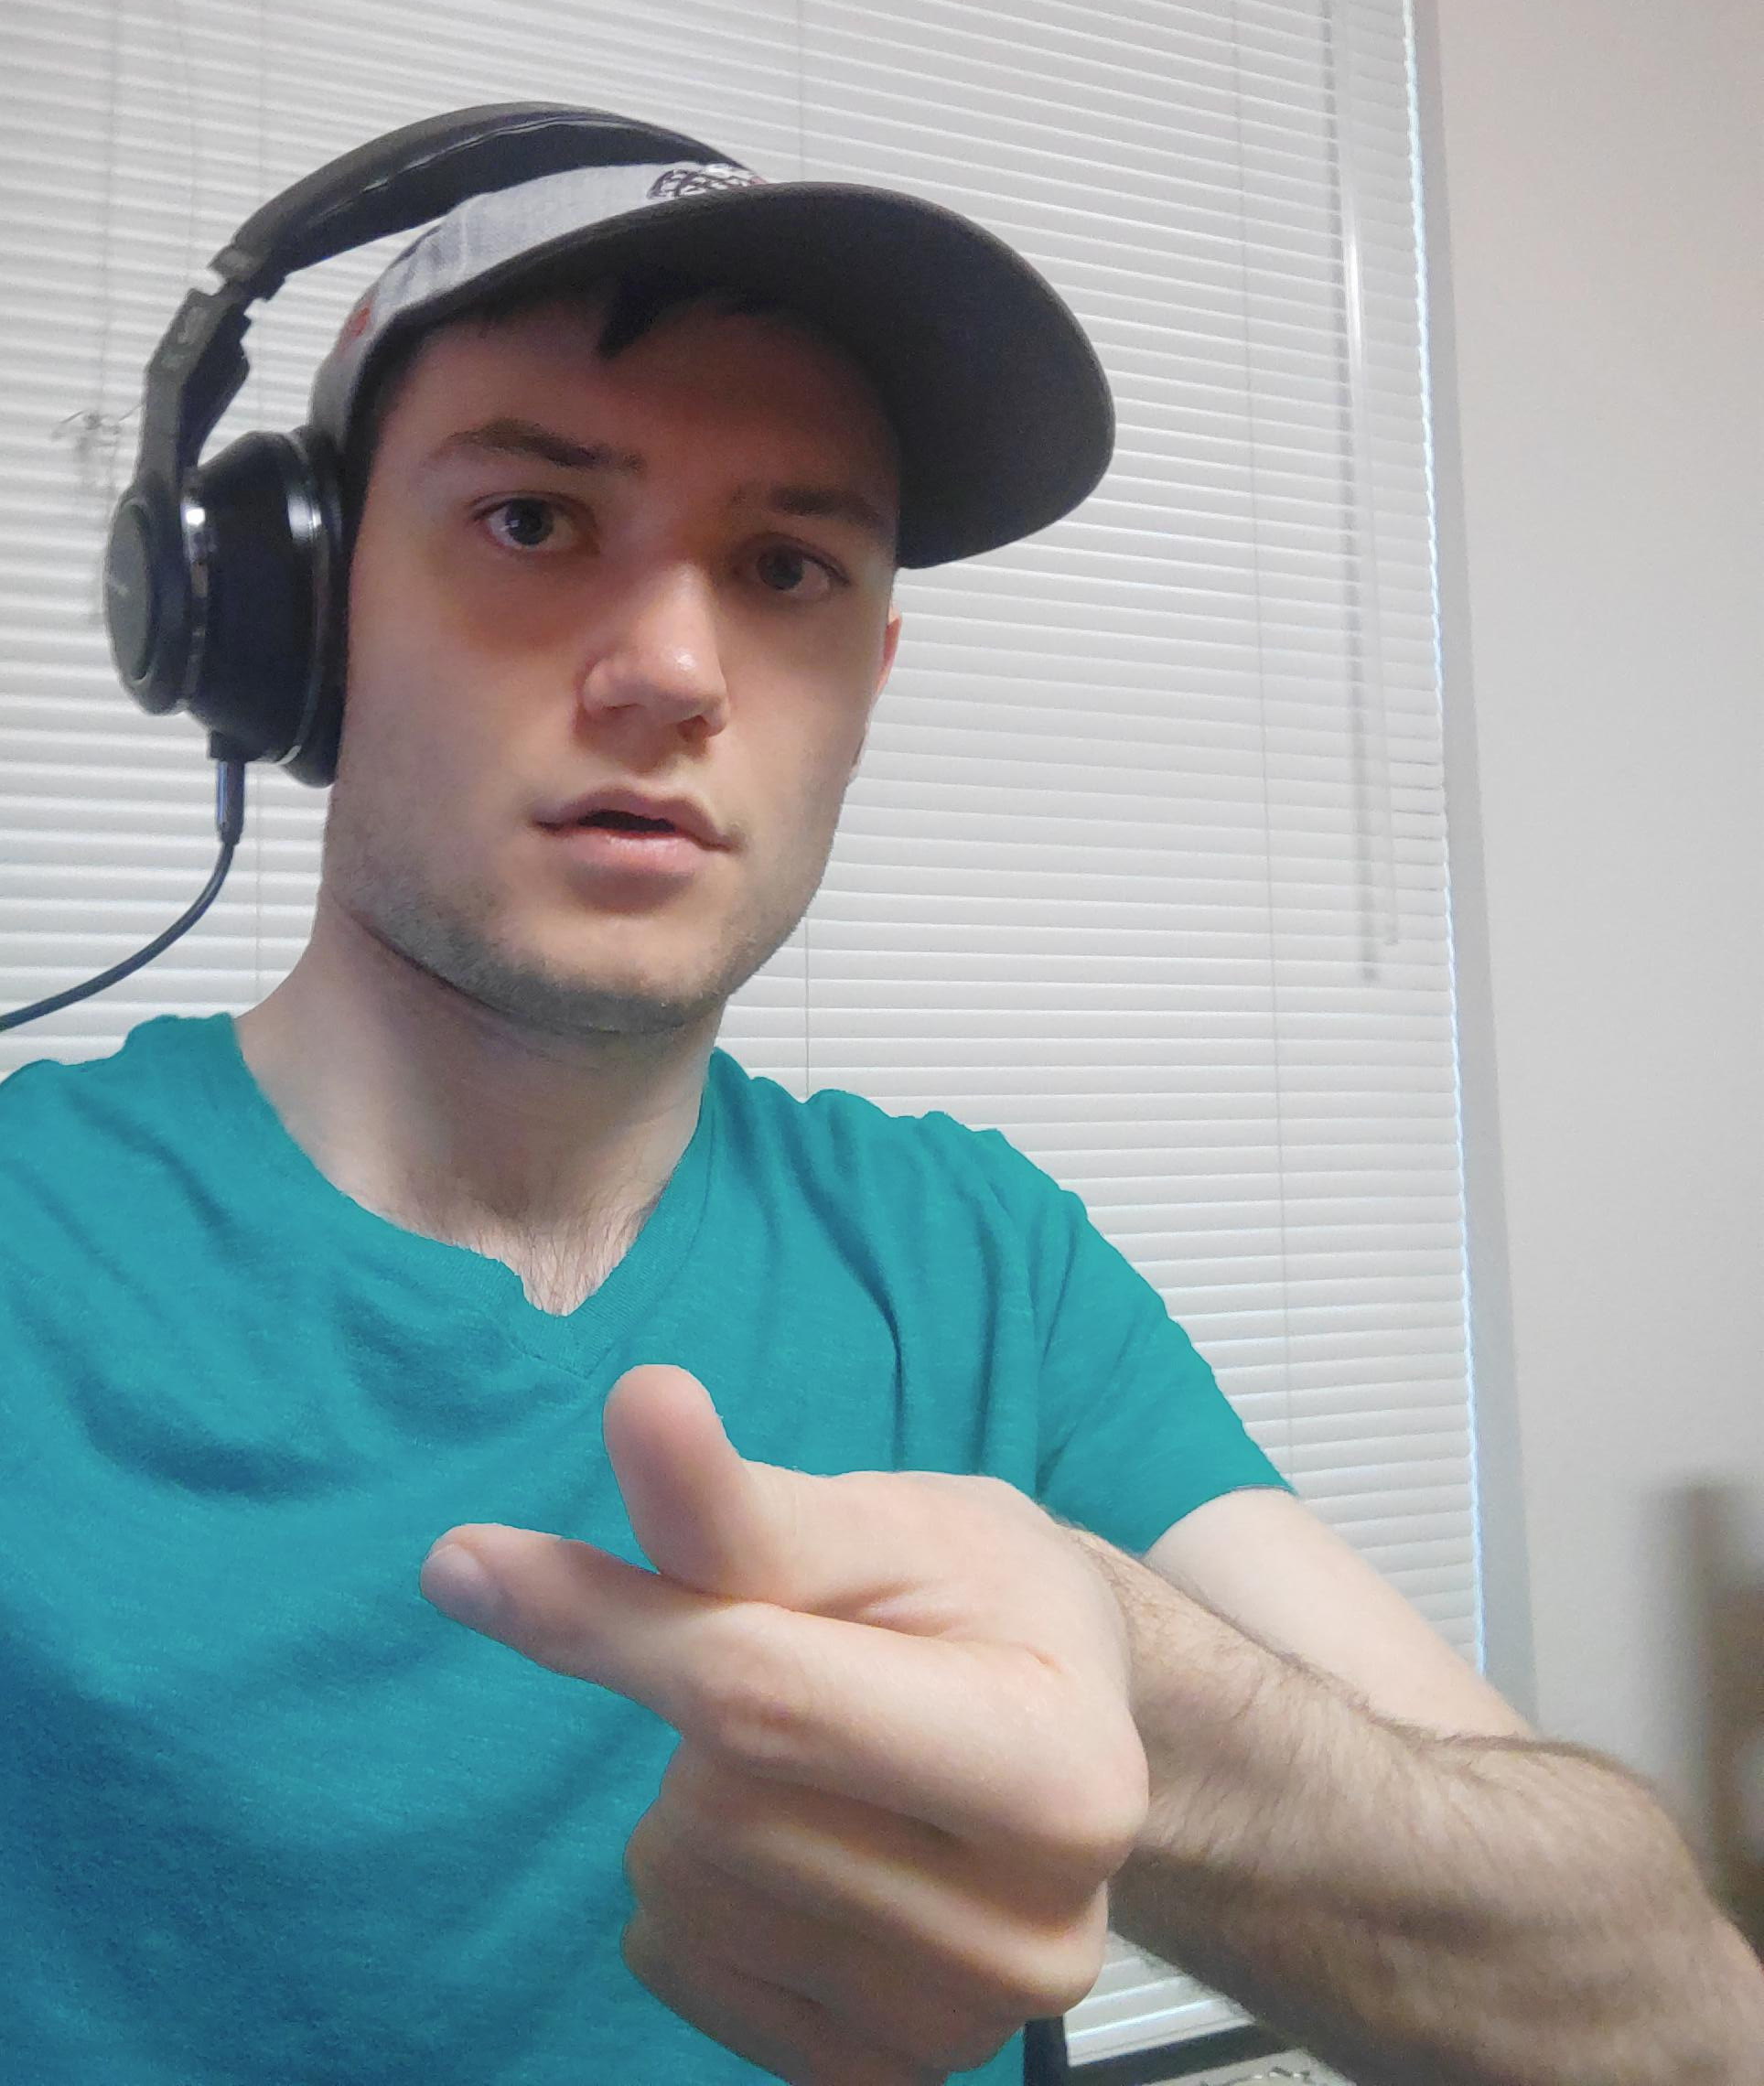heart gesture: (415, 1347, 817, 1748)
